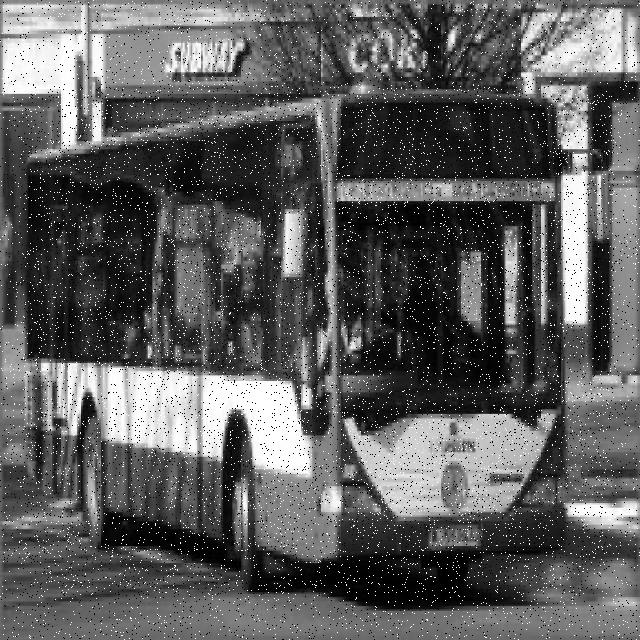Bus: (23, 84, 614, 594)
